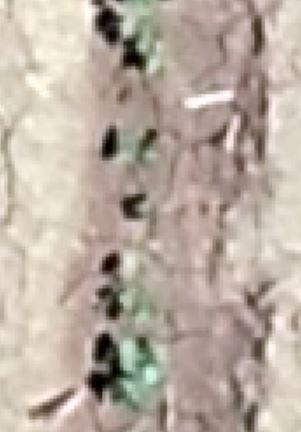cotton: (121, 2, 157, 38), (116, 376, 160, 405), (120, 340, 154, 373), (121, 290, 150, 318), (124, 136, 151, 157), (119, 253, 140, 275), (140, 40, 163, 59)
